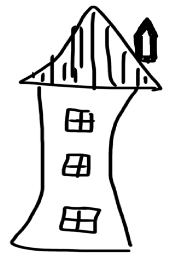big_house: (1, 1, 177, 260)
chimney: (131, 11, 162, 68)
closed_window: (56, 199, 104, 236), (57, 103, 101, 139), (59, 148, 98, 181)
roof: (11, 4, 170, 97)
wall: (6, 78, 151, 254)
